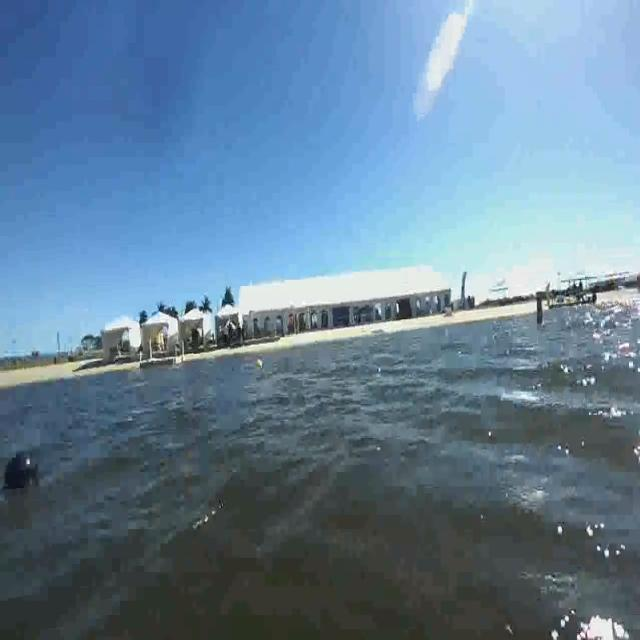black-buoy: (4, 444, 37, 486)
yellow-buoy: (255, 357, 263, 369)
